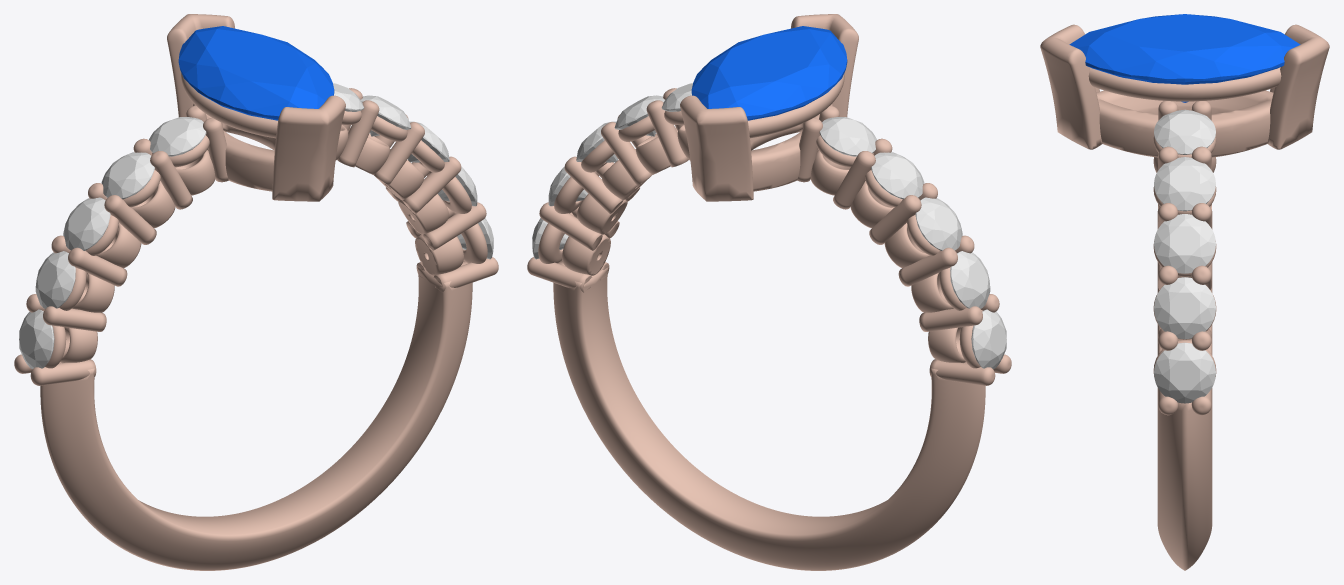
The model's file is bluesapphire-marquise-rosegold-protectededges2prongs-knifeedge-11stone.glb.
The picture shows the model from 3 angles, left to right: view 1: azimuth 30°, elevation 25°; view 2: azimuth 150°, elevation 25°; view 3: azimuth 270°, elevation 25°; orthographic projection.
Parts seen in each view (by area): view 1: metal, stone, dia.004, dia.005, dia.003, dia.006, dia, dia.010; view 2: metal, stone, dia.004, dia.005, dia.003, dia.006, dia, dia.010; view 3: metal, stone, dia.008, dia.007, dia.009, dia.010, dia.011.
Part boxes in pixels (x1,y1,x2,y2): metal: (14,14,498,570); stone: (178,26,334,120); dia.004: (63,197,110,250); dia.005: (101,152,154,199); dia.003: (35,251,75,308); dia.006: (149,117,206,156); dia: (19,309,54,369); dia.010: (361,95,411,136); metal: (527,14,1011,570); stone: (691,26,847,120); dia.004: (915,197,962,250); dia.005: (871,152,924,199); dia.003: (950,251,990,308); dia.006: (819,117,876,156); dia: (971,309,1006,369); dia.010: (614,95,664,136); metal: (1040,24,1329,570); stone: (1069,14,1300,102); dia.008: (1154,277,1215,339); dia.007: (1154,342,1215,403); dia.009: (1154,214,1215,273); dia.010: (1154,157,1215,211); dia.011: (1154,109,1215,154).
Size of the model in its own units: 21.97 by 22.93 by 11.69.
